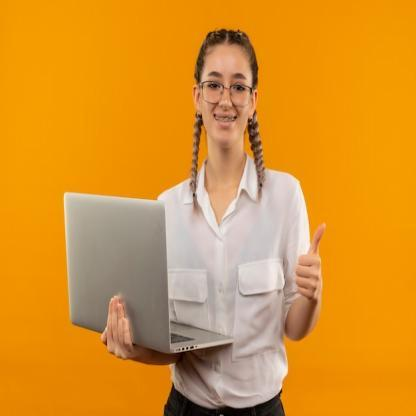thumb_up: (294, 219, 329, 303)
